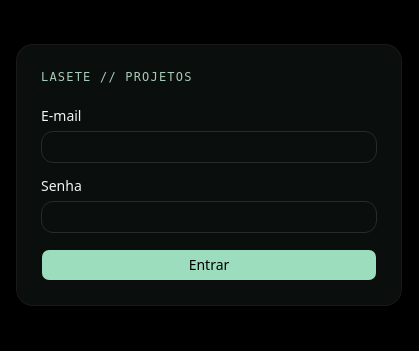
Test: login e acesso › too-many-requests e erro desconhecido têm mensagens próprias
In the field labelled "E-mail": (209, 147) 41,131 -> 377,163, type "ana@lasete.org"
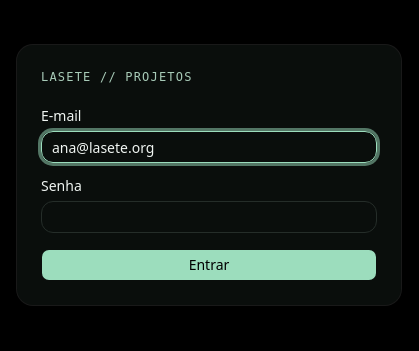
In the password field labelled "Senha": (209, 217) 41,201 -> 377,233, type "x"
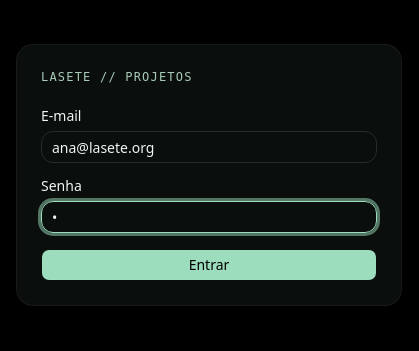
Click the button "Entrar": (209, 265) 41,249 -> 377,281
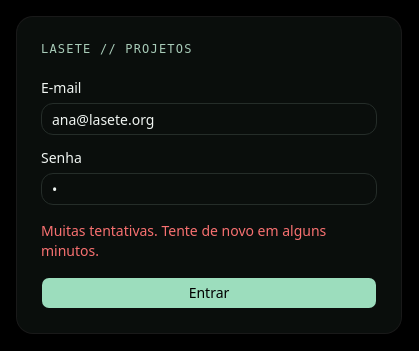
Check: the text "Muitas tentativas. Tente de novo em alguns minutos." is shown, box 41,221 -> 326,260
Click the button "Entrar": (209, 293) 41,277 -> 377,309
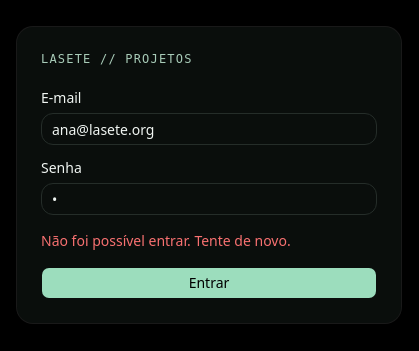
Check: the text "Não foi possível entrar. Tente de novo." is shown, box 41,231 -> 291,250
